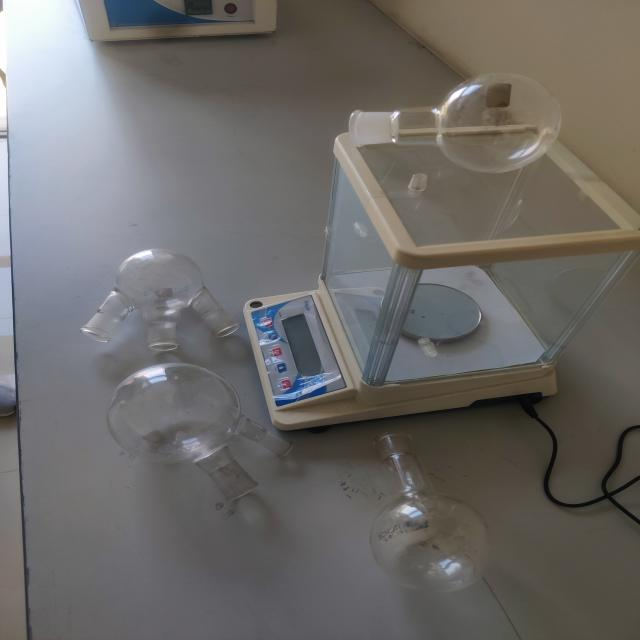Round_Bottom_Flask_Borosilicate_Glass_1_Neck: (333, 402, 514, 601), (325, 58, 577, 197)
Round_Bottom_Flask_Borosilicate_Glass_2_Neck: (80, 349, 324, 524)
Round_Bottom_Flask_Borosilicate_Glass_3_Neck: (75, 205, 256, 363)
